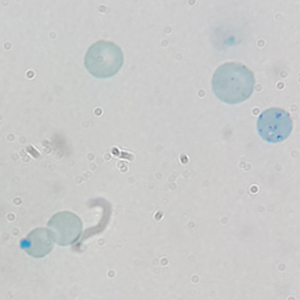aggregate reticulocyte: (255, 106, 295, 144)
erythrocyte: (82, 39, 126, 80), (44, 209, 85, 248), (18, 226, 58, 259)
punctate reticulocyte: (210, 61, 257, 105)
